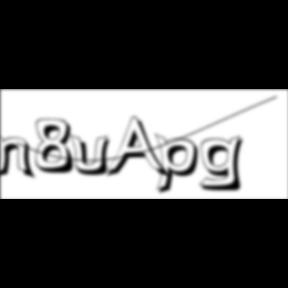8: (36, 117, 80, 176)
A: (106, 116, 174, 182)
g: (199, 134, 251, 194)
n: (1, 132, 40, 181)
p: (155, 132, 205, 198)
u: (69, 132, 117, 178)
